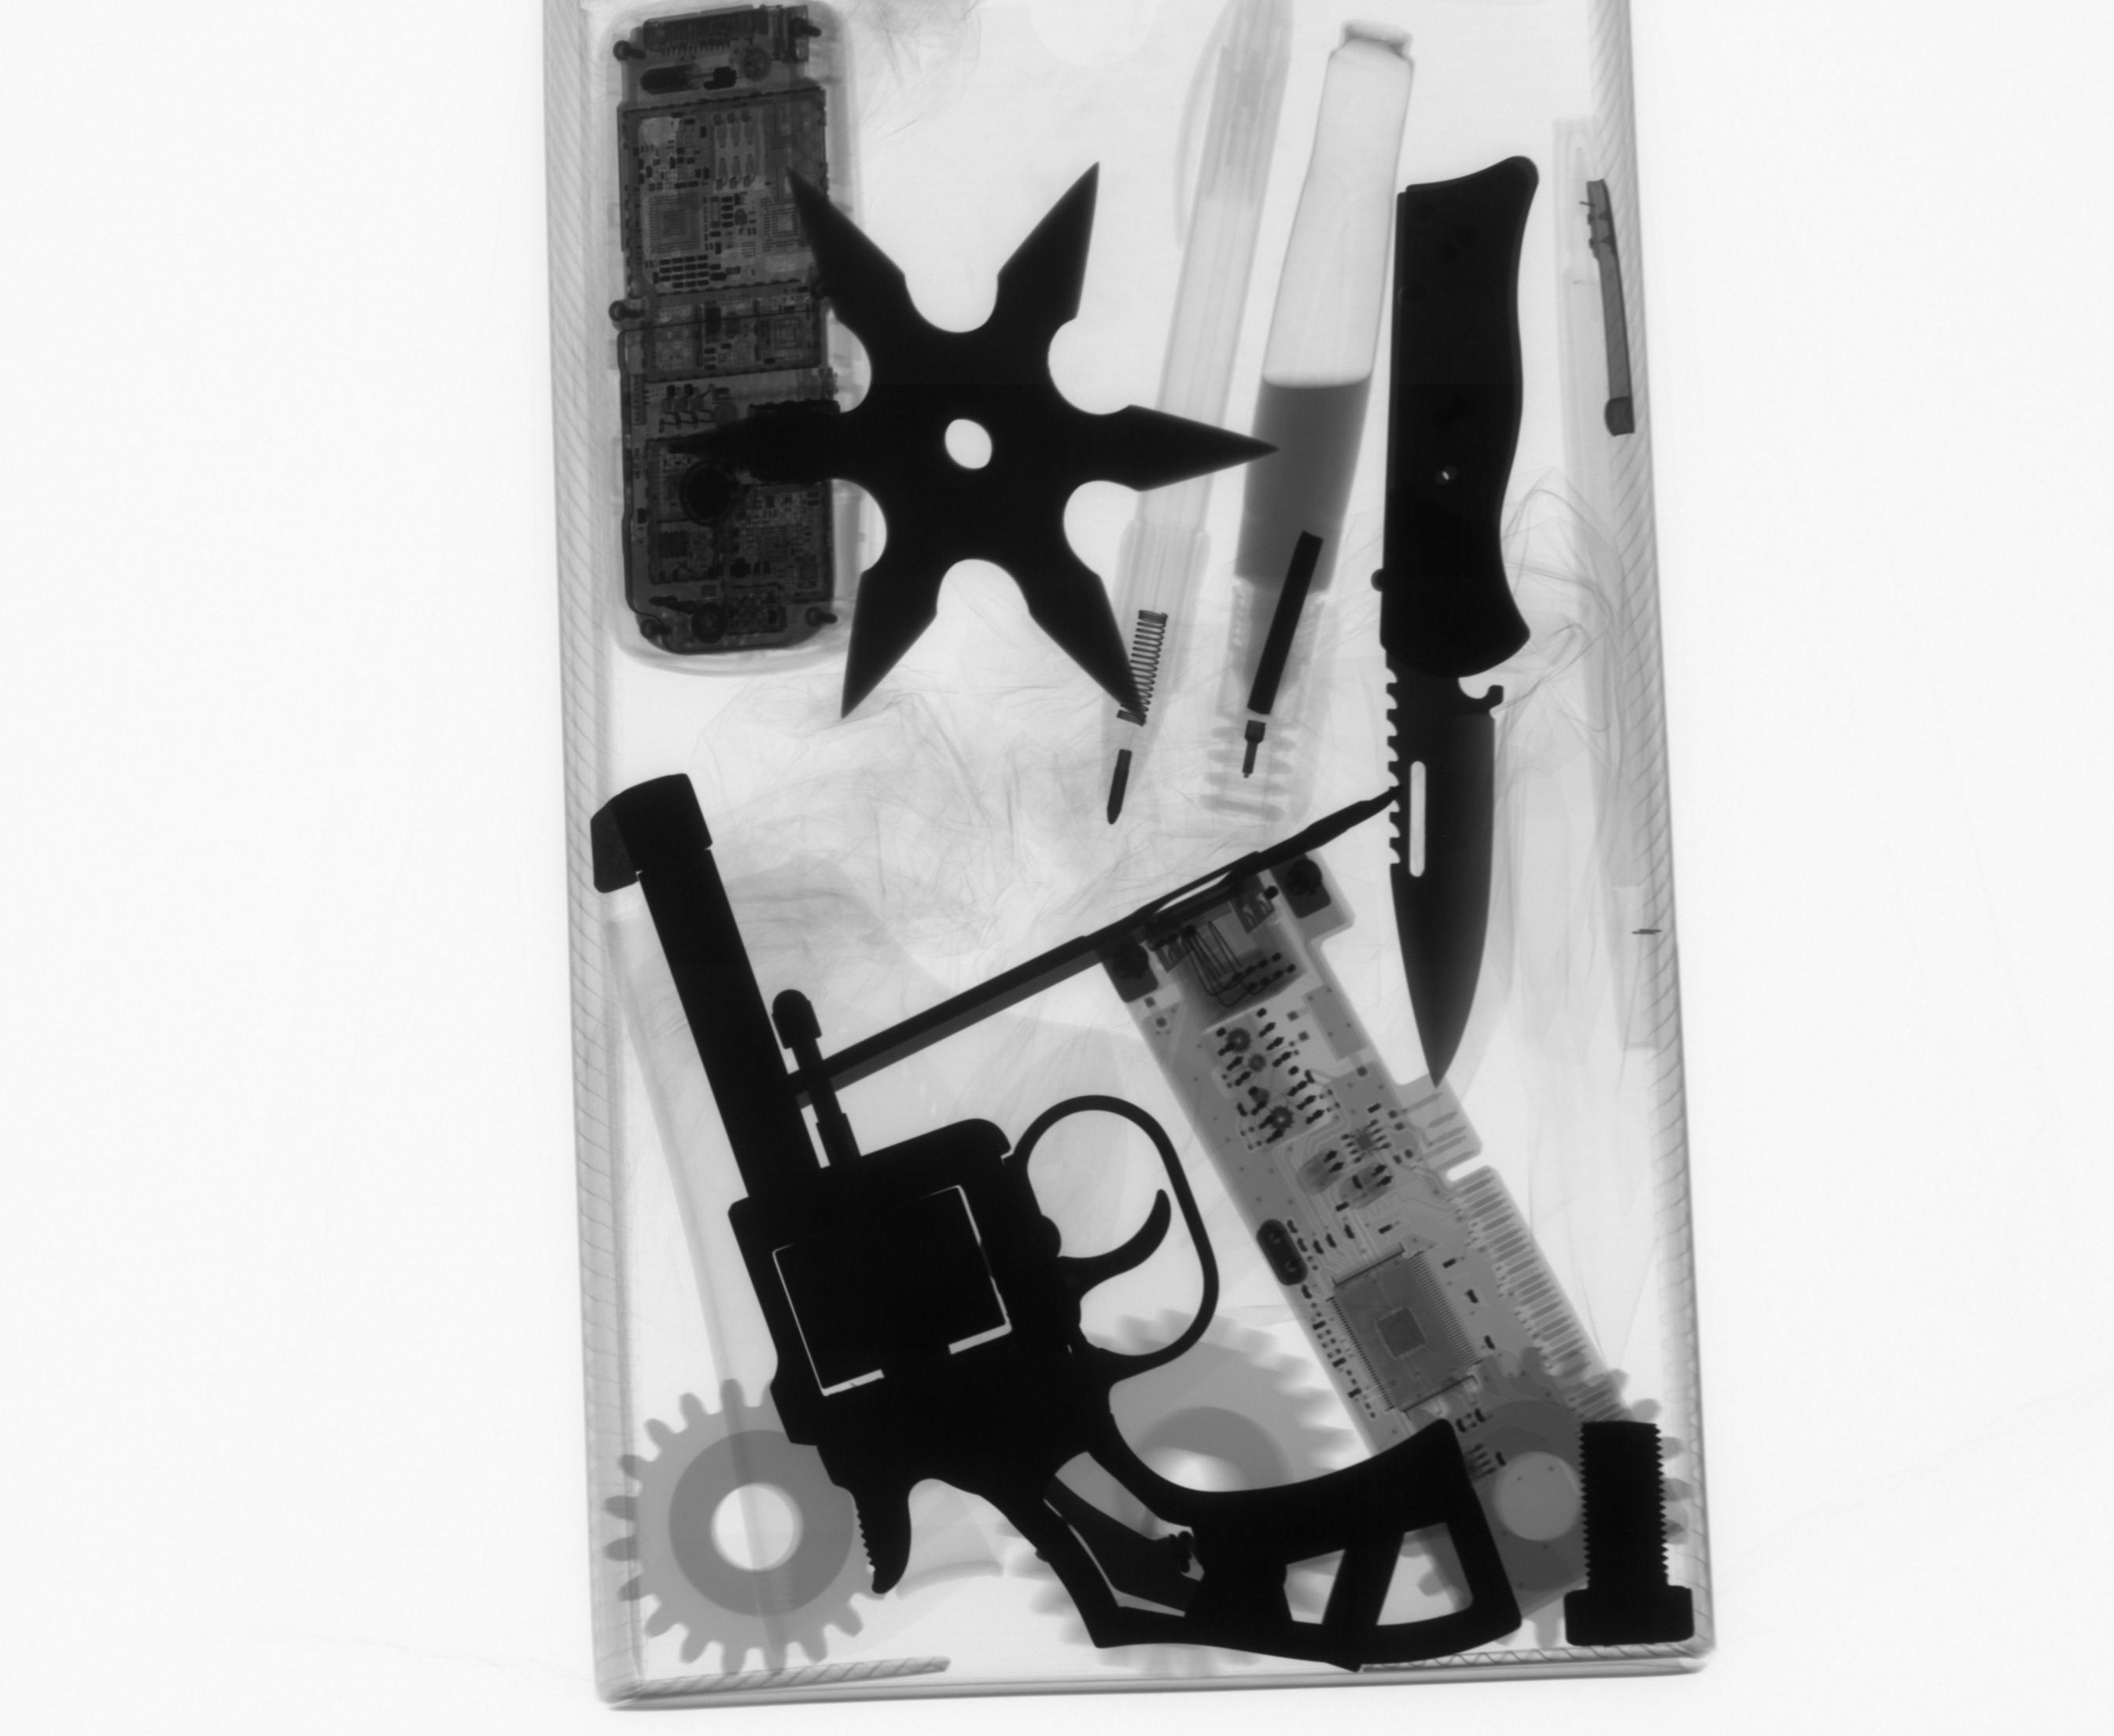Handgun: (583, 768, 1531, 1671)
Knife: (1368, 142, 1545, 1094)
Shuriken: (662, 156, 1290, 726)
